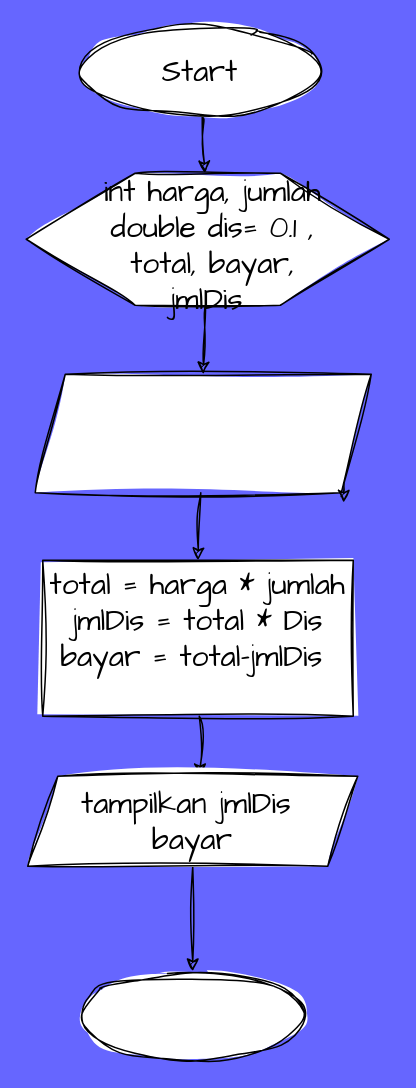
This 416x1088 diagram has some shape labels left out. The shapes that lost their labels are listed below. From the top down, each one's box as (x1, y1, x2, y2) in pixels, then its label:
(34, 373, 371, 493): input harga, jumlah, merk buku, jumlah halaman buku, dis=0.1
(79, 970, 305, 1061): End
